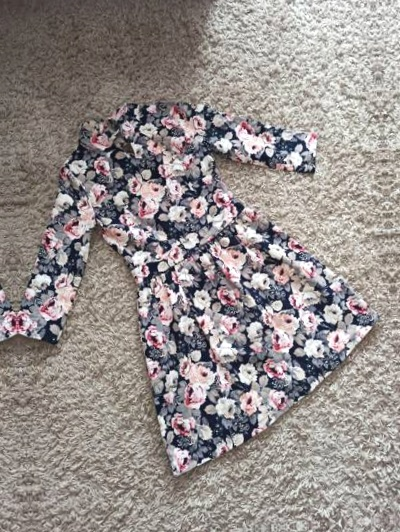Dress: (0, 59, 395, 494), (0, 85, 29, 519), (389, 32, 400, 466)
